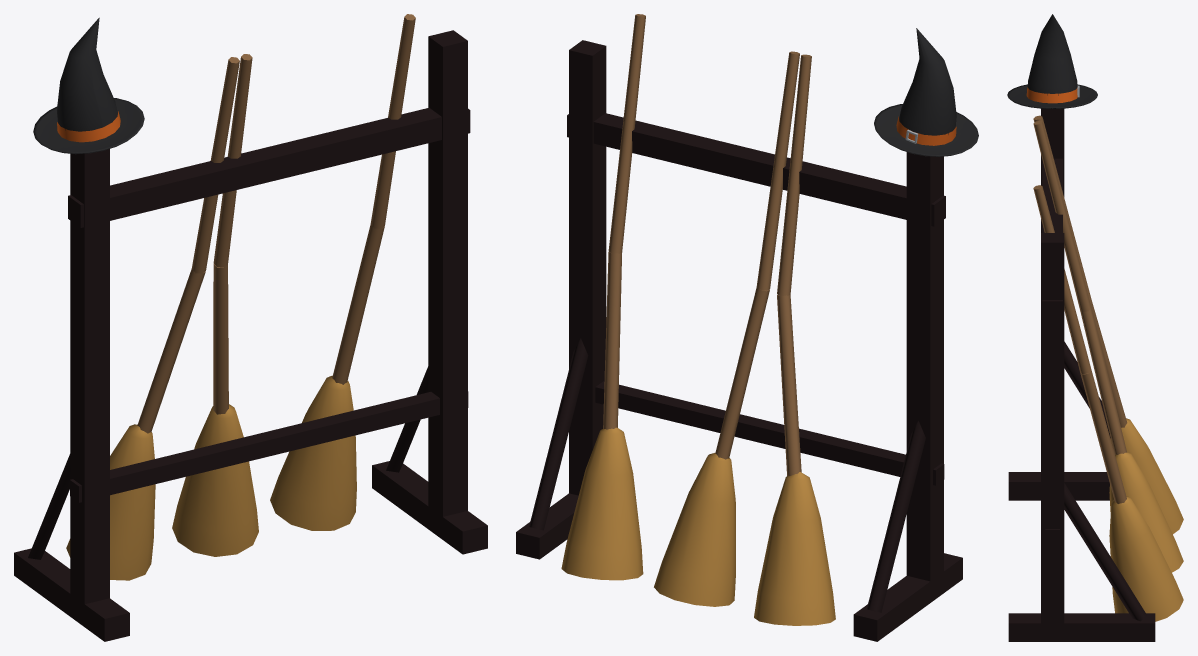
The model's file is BROOM_RACK.glb.
The picture shows the model from 3 angles, left to right: view 1: azimuth 30°, elevation 25°; view 2: azimuth 150°, elevation 25°; view 3: azimuth 270°, elevation 25°; orthographic projection. The views are drawn at different scales.
Parts seen in each view (by area): view 1: timber_0, straw_2, wood_1, tread_3, pumpkin_4; view 2: timber_0, straw_2, wood_1, tread_3; view 3: timber_0, straw_2, wood_1, tread_3, pumpkin_4.
Boxes of the visible parts, x1=… form: timber_0: x1=14, y1=30, x2=487, y2=641; straw_2: x1=66, y1=375, x2=356, y2=580; wood_1: x1=137, y1=14, x2=415, y2=433; tread_3: x1=33, y1=17, x2=144, y2=154; pumpkin_4: x1=57, y1=111, x2=120, y2=142; timber_0: x1=516, y1=40, x2=962, y2=641; straw_2: x1=561, y1=427, x2=835, y2=625; wood_1: x1=603, y1=14, x2=811, y2=475; tread_3: x1=874, y1=28, x2=978, y2=156; timber_0: x1=1008, y1=108, x2=1155, y2=641; straw_2: x1=1109, y1=418, x2=1183, y2=621; wood_1: x1=1033, y1=115, x2=1127, y2=503; tread_3: x1=1007, y1=14, x2=1097, y2=108; pumpkin_4: x1=1026, y1=87, x2=1077, y2=103.
Bounding box in the file's own units: 1.35 × 1.85 × 0.6019.
